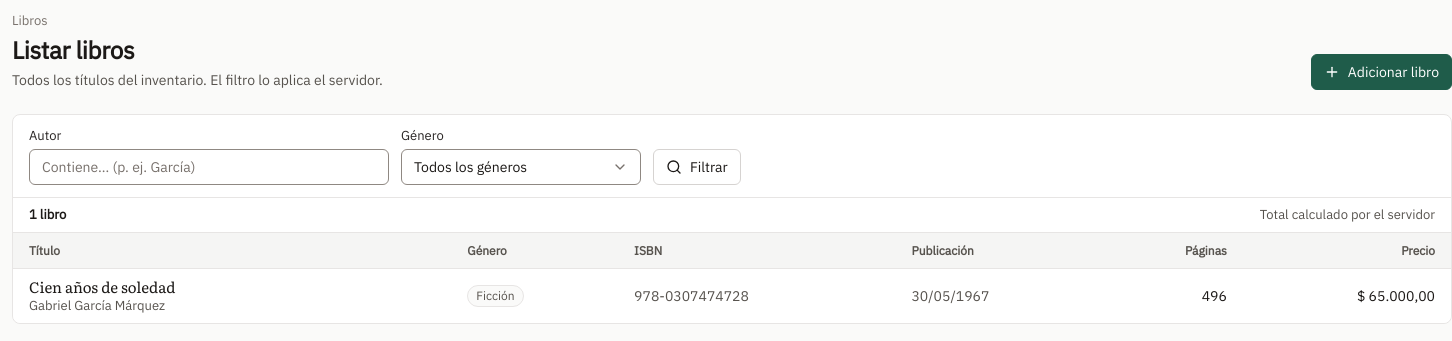
ListarLibros › limpiar filtros vuelve a pedir la lista completa
Expected: the text "Cien años de soledad" is shown, [29,275,175,298]
Expected: the button "Limpiar filtros" is not shown
Type "rulfo" into the field labelled "Autor" at (209, 167), box [30,150,388,184]
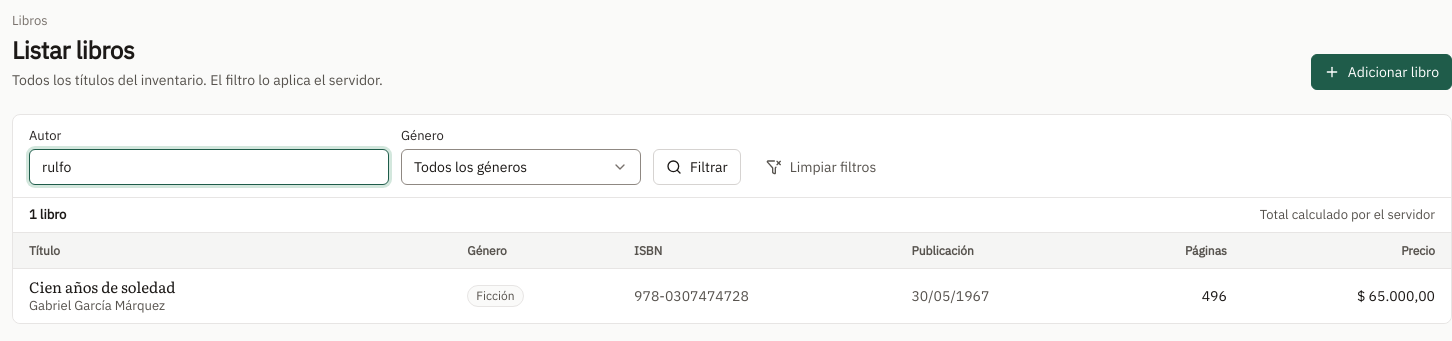
Click the button "Limpiar filtros" at (821, 167), box [753,149,889,185]
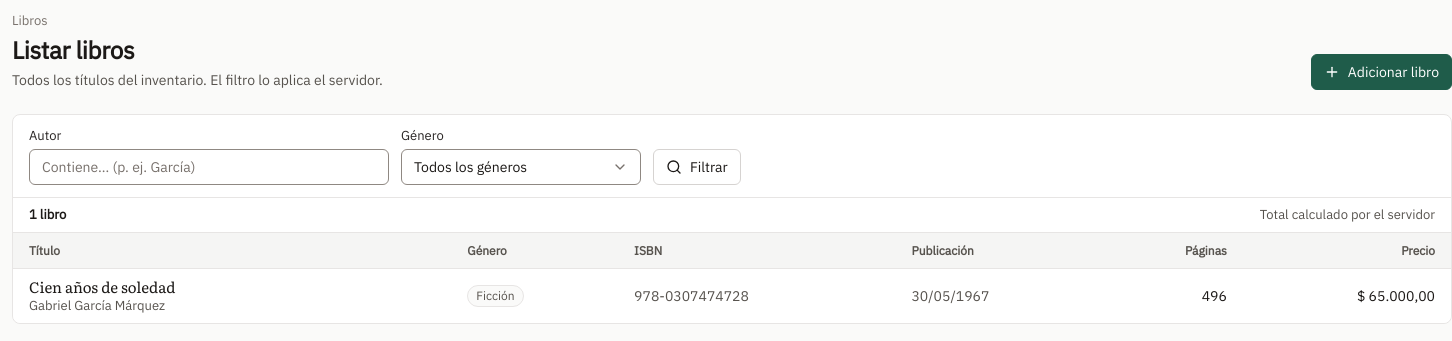
Expected: the field labelled "Autor" is empty, [30,150,388,184]
